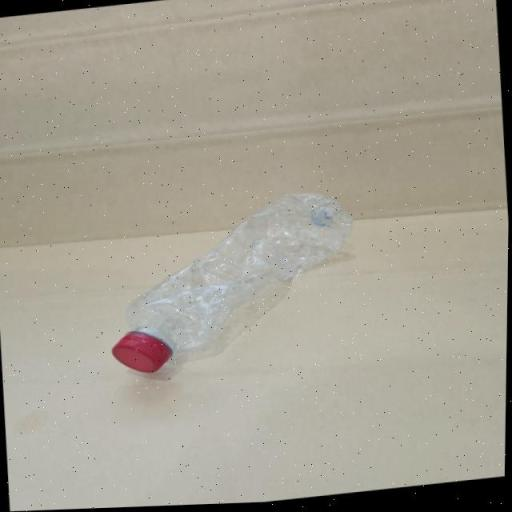plastic: (94, 174, 373, 380)
